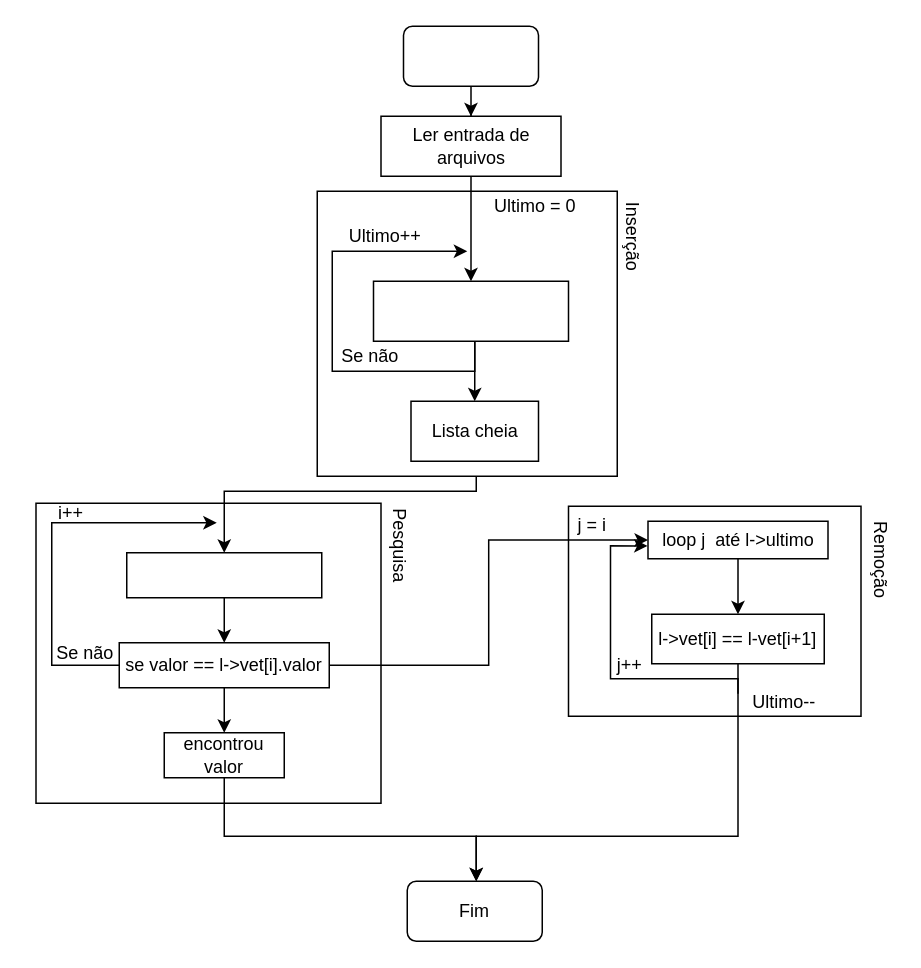
The diagram is 921 pixels wide and 968 high, and some of its shapes have lost their labels. The centre of each missing label's shape, as x and y in pixels:
"Início" belongs at [470,55].
"loop i = l->primeiro até l->ultimo" belongs at [223,574].
"Se ultimo == MAXTAM" belongs at [470,310].
